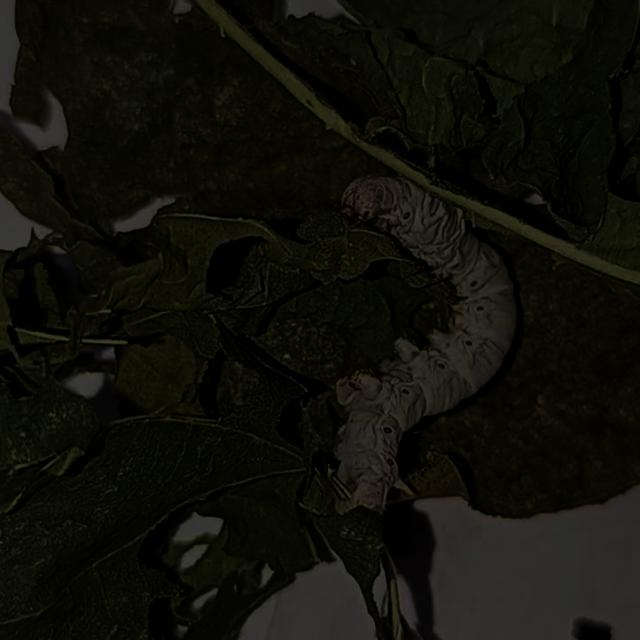Healthy: (312, 148, 526, 529)
